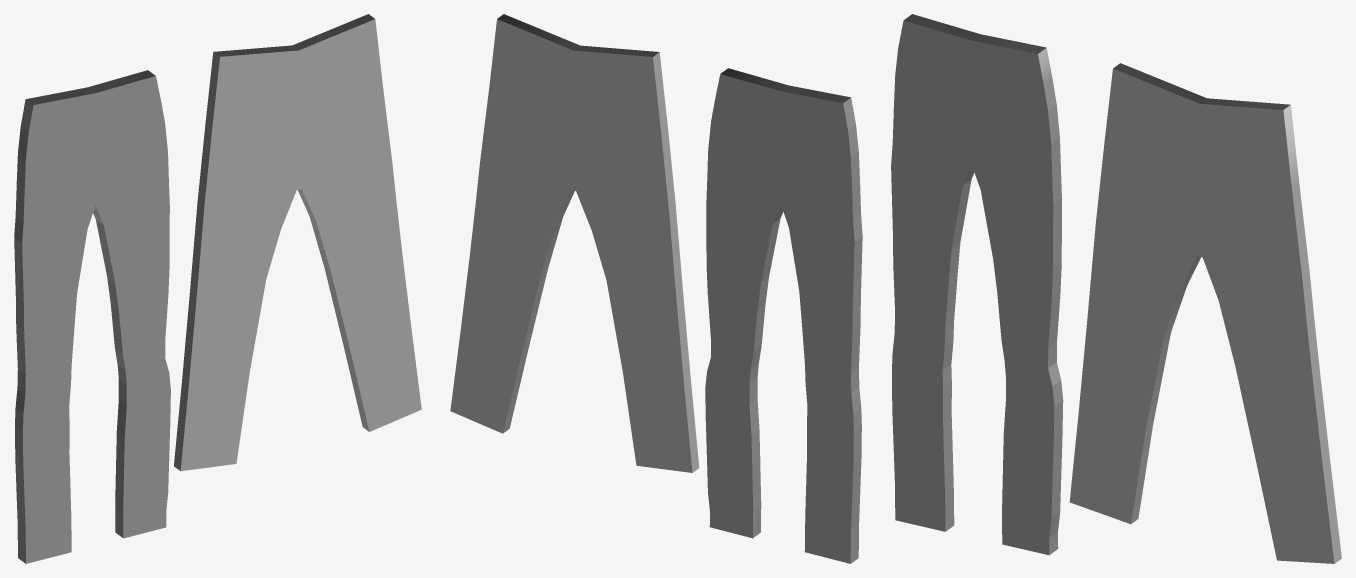
Rendered from Calças (2).FBX.
3 views of the same model, side by side, from view 1: azimuth 30°, elevation 25°; view 2: azimuth 150°, elevation 25°; view 3: azimuth 330°, elevation 25° (orthographic). The views are drawn at different scales.
Visible parts, largest first — view 1: Box001, Object001; view 2: Box001, Object001; view 3: Box001, Object001.
Part boxes in pixels (left/top/right/bottom): Box001: left=174, top=14, right=421, bottom=471; Object001: left=14, top=70, right=170, bottom=563; Box001: left=450, top=14, right=699, bottom=472; Object001: left=705, top=68, right=862, bottom=563; Box001: left=1069, top=63, right=1341, bottom=563; Object001: left=891, top=14, right=1063, bottom=555.
Bounding box in the file's own units: 86.31 × 93.97 × 3.31.
